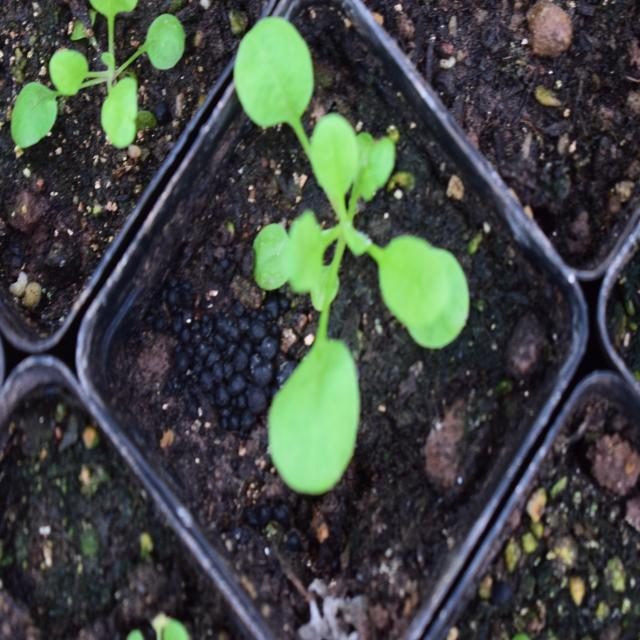Shepherd_Purse: (240, 24, 478, 484), (12, 0, 182, 152)
